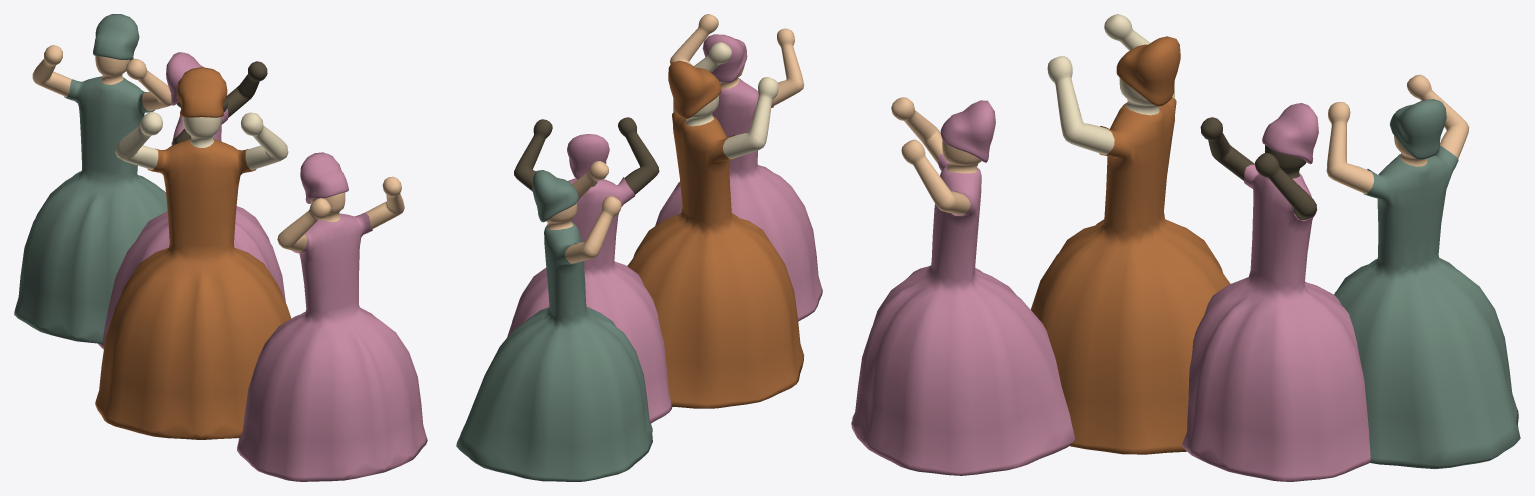
File: Mobs2_Schranzen.fbx
3 views of the same model, side by side, from view 1: azimuth 30°, elevation 25°; view 2: azimuth 150°, elevation 25°; view 3: azimuth 270°, elevation 25° (orthographic). The views are drawn at different scales.
Visible parts, largest first — view 1: Cube.013, Cube.015, Cube.019, Cube.017, Cube.014, Cube.020, Cube.016, Cube.018; view 2: Cube.013, Cube.019, Cube.017, Cube.015, Cube.014, Cube.018, Cube.020, Cube.016; view 3: Cube.013, Cube.015, Cube.017, Cube.019, Cube.014, Cube.020, Cube.016, Cube.018.
Part boxes in pixels (left/top/right/bottom): Cube.013: left=95, top=67, right=291, bottom=439; Cube.015: left=237, top=152, right=427, bottom=481; Cube.019: left=14, top=14, right=167, bottom=343; Cube.017: left=98, top=52, right=285, bottom=349; Cube.014: left=115, top=112, right=288, bottom=169; Cube.020: left=32, top=45, right=171, bottom=111; Cube.016: left=277, top=176, right=404, bottom=251; Cube.018: left=172, top=61, right=267, bottom=144; Cube.013: left=627, top=60, right=804, bottom=408; Cube.019: left=456, top=170, right=652, bottom=481; Cube.017: left=507, top=134, right=672, bottom=423; Cube.015: left=655, top=34, right=822, bottom=321; Cube.014: left=673, top=42, right=778, bottom=159; Cube.018: left=514, top=117, right=659, bottom=194; Cube.020: left=546, top=161, right=621, bottom=263; Cube.016: left=670, top=14, right=804, bottom=106; Cube.013: left=1030, top=36, right=1230, bottom=454; Cube.015: left=851, top=100, right=1075, bottom=475; Cube.017: left=1181, top=103, right=1370, bottom=481; Cube.019: left=1334, top=99, right=1520, bottom=468; Cube.014: left=1047, top=14, right=1174, bottom=154; Cube.020: left=1326, top=74, right=1469, bottom=194; Cube.016: left=891, top=97, right=981, bottom=215; Cube.018: left=1200, top=117, right=1316, bottom=219.
Bounding box in the file's own units: 973 × 1266 × 2055.
